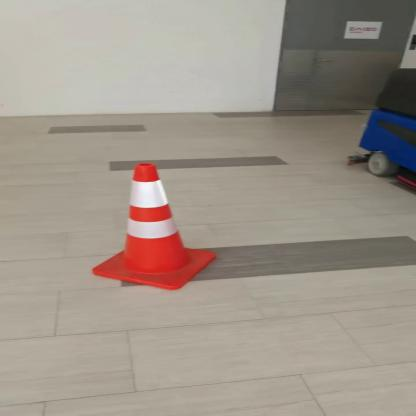cone: (78, 155, 226, 298)
